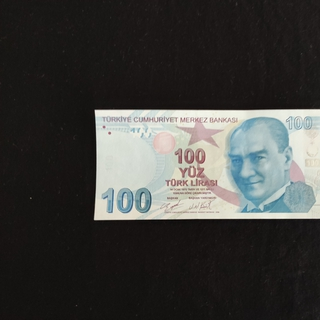100TLFront: (93, 107, 320, 221)
